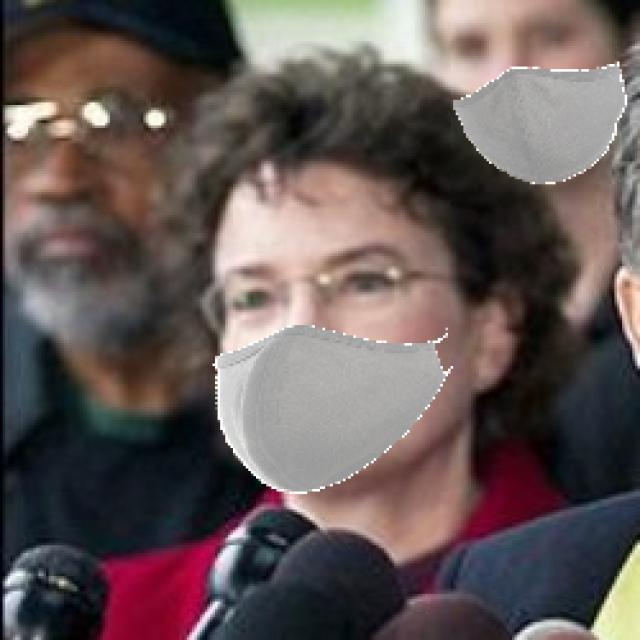mask: (210, 323, 470, 507), (448, 67, 640, 195)
